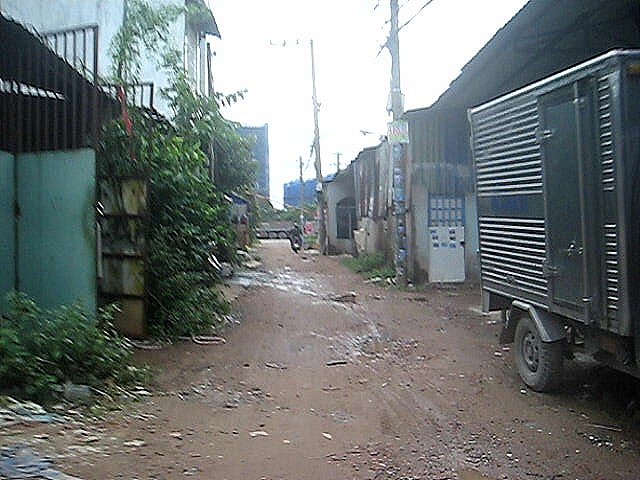hole: (347, 428, 570, 480), (149, 380, 291, 432), (336, 325, 433, 370), (253, 263, 320, 296), (320, 290, 368, 310)
